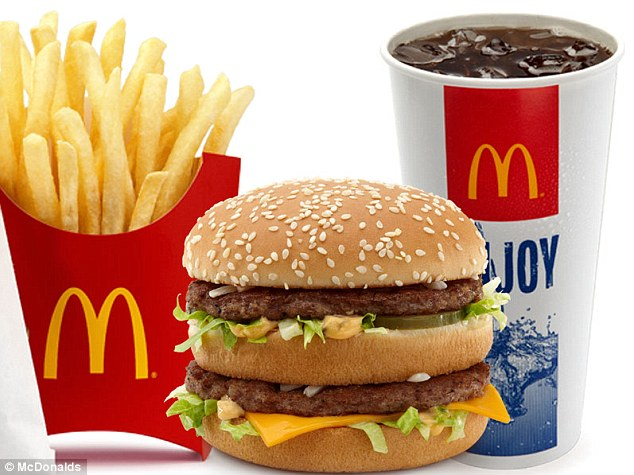mcdonalds: (35, 277, 154, 386), (461, 137, 549, 211)
